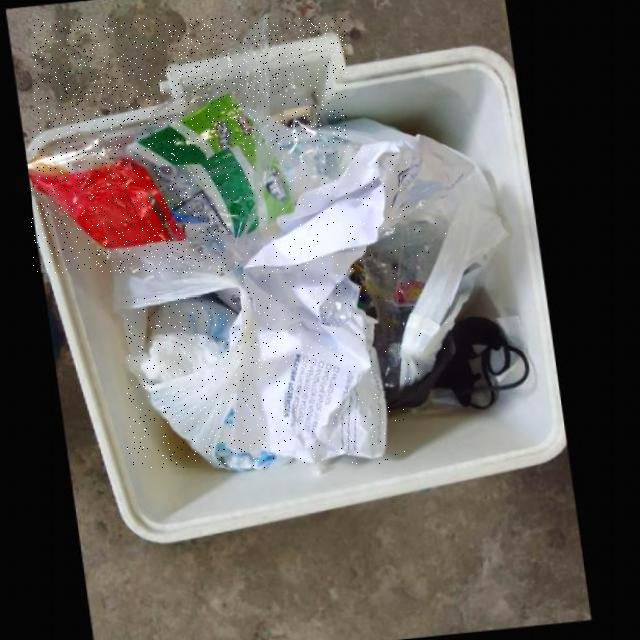paper: (229, 144, 409, 463), (127, 296, 286, 468)
plastic: (33, 18, 347, 273), (367, 220, 450, 391)
wrapper: (31, 160, 192, 250)
